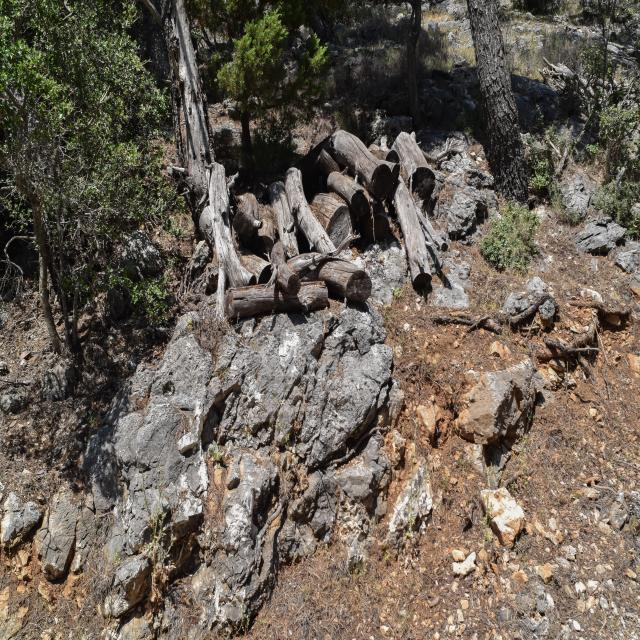restos de madeira: (186, 162, 268, 323), (264, 171, 339, 266), (226, 261, 335, 318), (311, 166, 380, 250), (320, 128, 396, 202), (392, 172, 435, 293), (308, 243, 381, 309), (388, 127, 441, 201)
